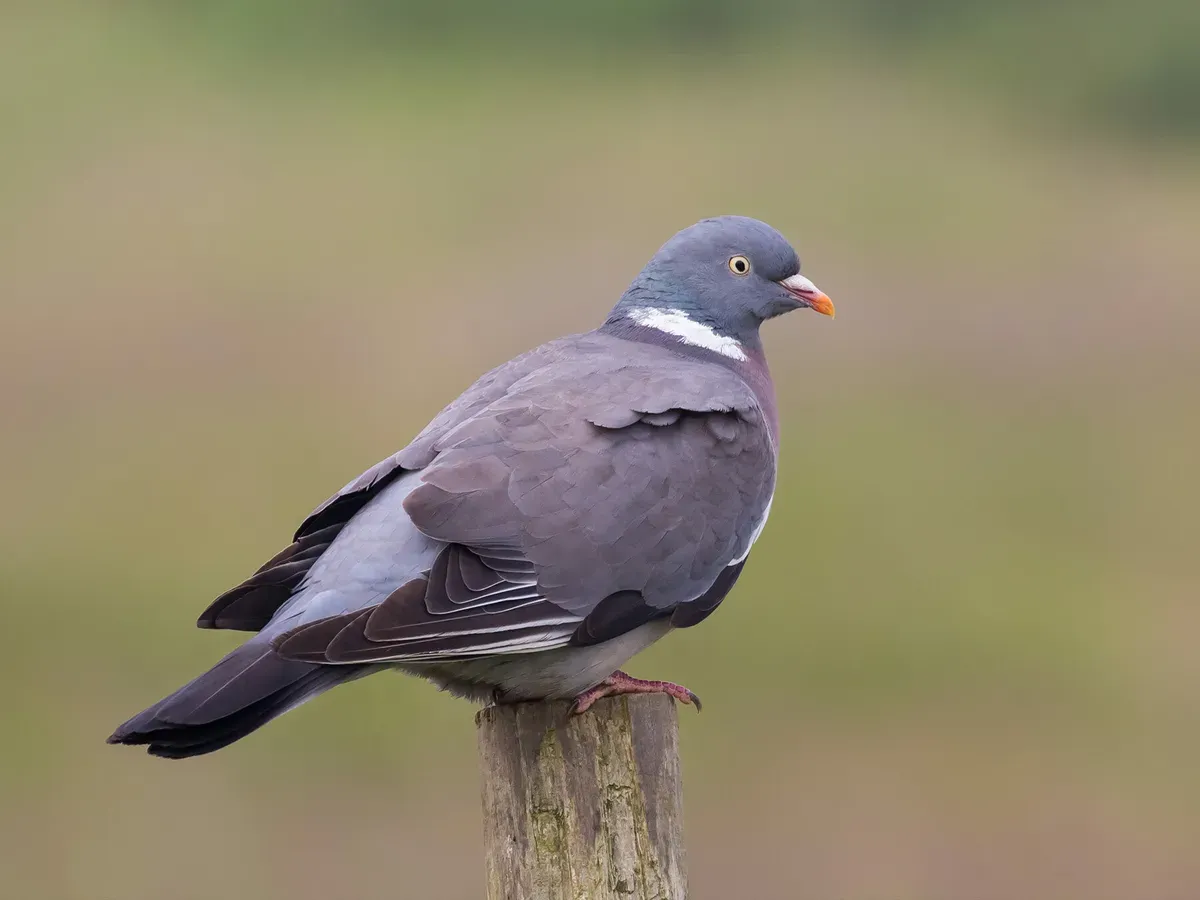Flying Rat: (128, 211, 833, 780)
